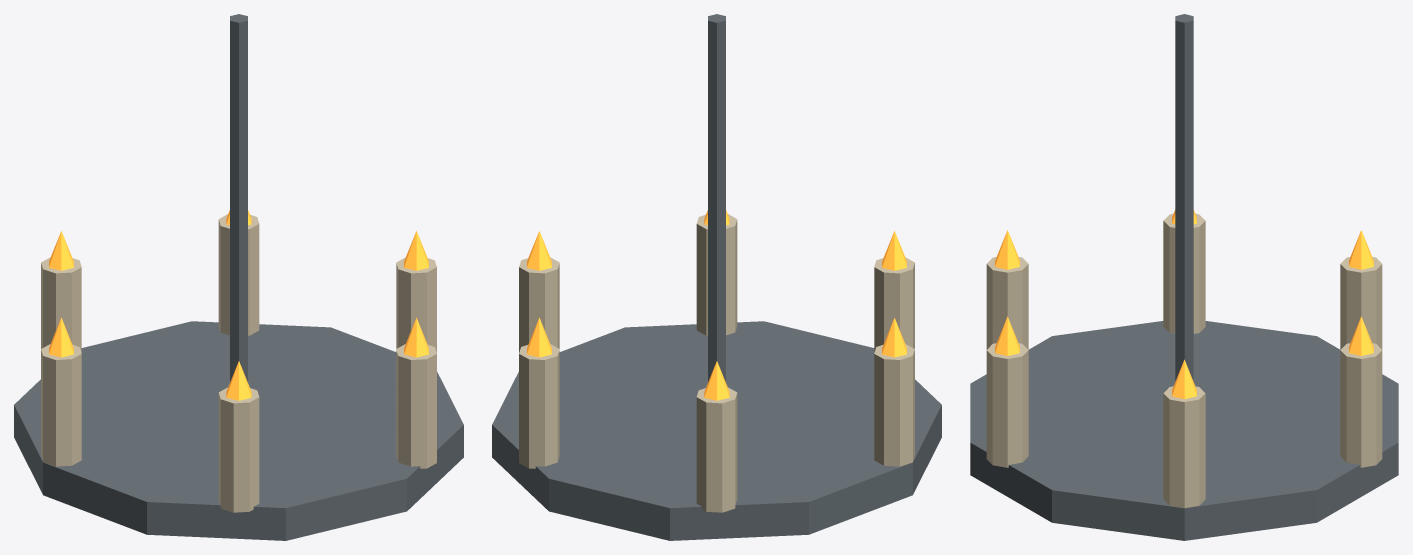
The model's file is tavern_chandelier.glb.
3 views of the same model, side by side, from view 1: azimuth 30°, elevation 25°; view 2: azimuth 150°, elevation 25°; view 3: azimuth 270°, elevation 25° (orthographic).
Visible parts, largest first — view 1: tavern_chandelier_Mesh; view 2: tavern_chandelier_Mesh; view 3: tavern_chandelier_Mesh.
Part boxes in pixels (box(x1,y1,x2,y2)): tavern_chandelier_Mesh: box(14, 14, 463, 540); tavern_chandelier_Mesh: box(492, 14, 941, 540); tavern_chandelier_Mesh: box(970, 14, 1398, 540).
Bounding box in the file's own units: 1.5 × 1.57 × 1.43.
